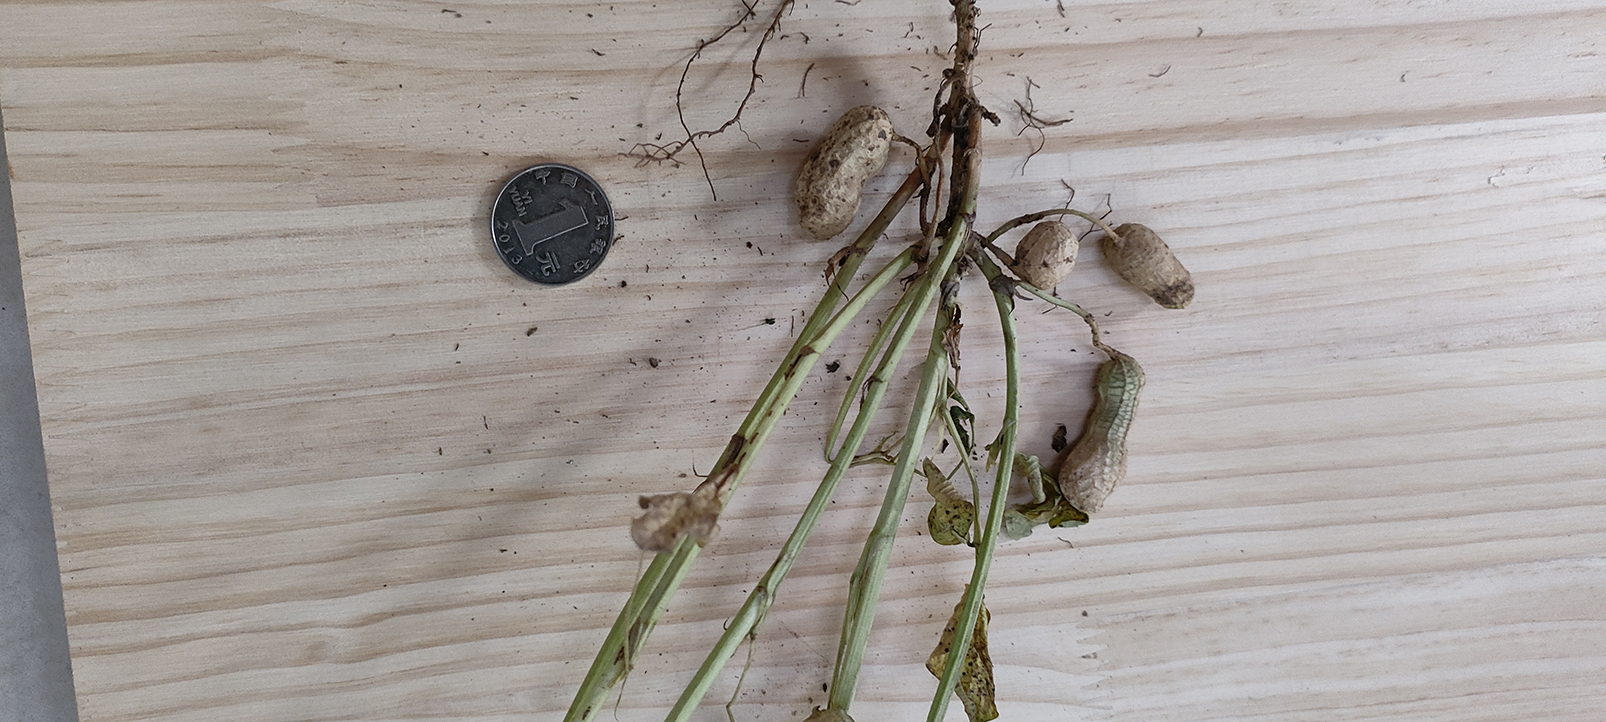h: (1057, 354, 1145, 515), (791, 104, 895, 240), (1105, 222, 1195, 312), (1011, 218, 1079, 290)
